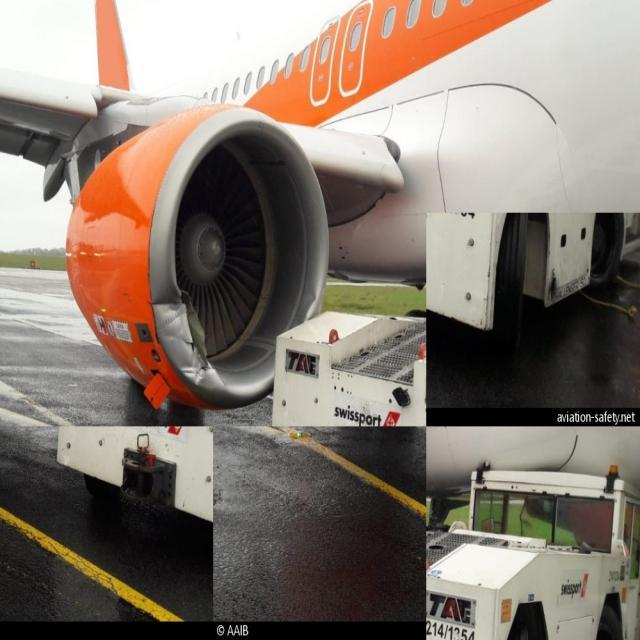crack: (182, 293, 212, 376)
dent: (152, 292, 183, 347), (299, 281, 333, 324), (175, 356, 206, 391)
